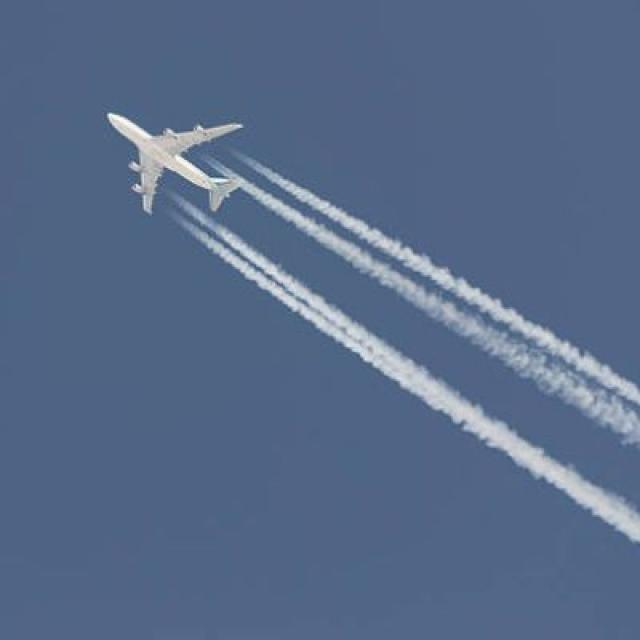Ct: (275, 152, 640, 568)
